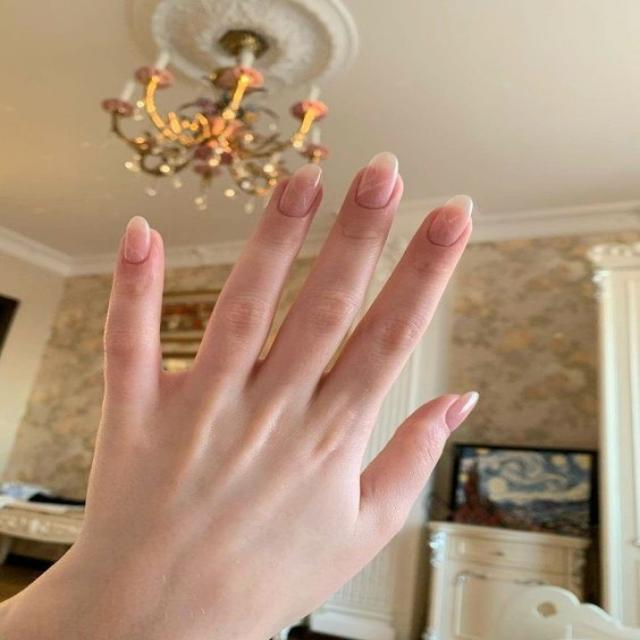Fingernail: (356, 152, 397, 208), (429, 195, 472, 246), (280, 165, 319, 216), (447, 393, 477, 431), (125, 217, 150, 262)
